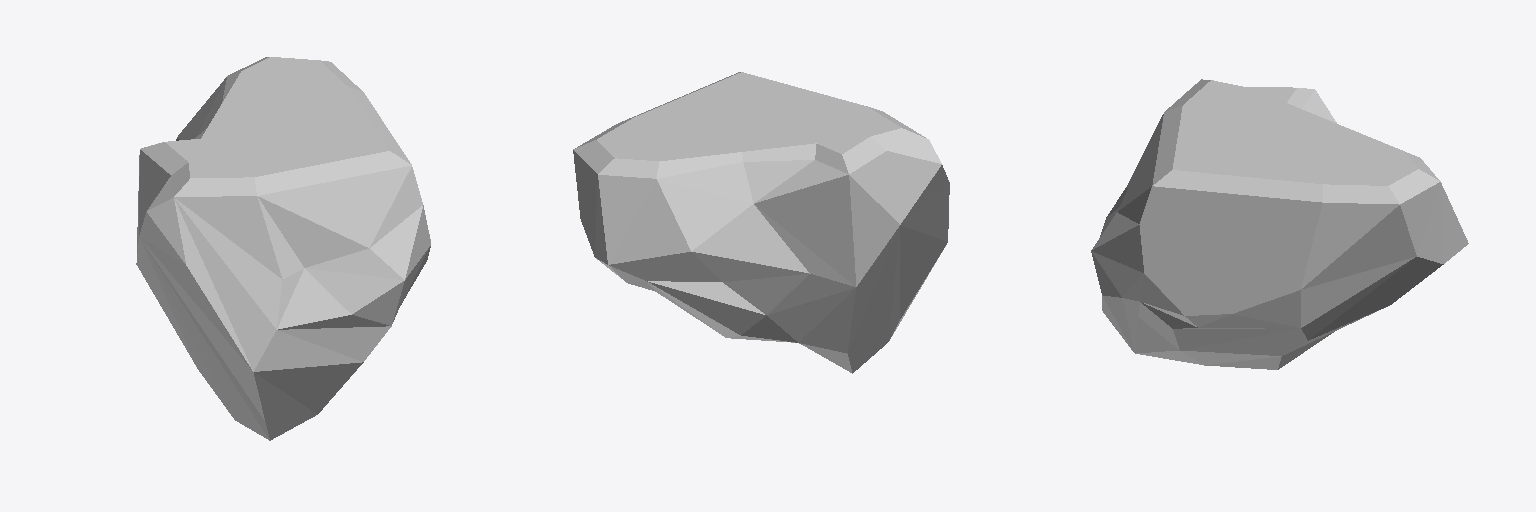
The model's file is Rock1Platform.obj.
The picture shows the model from 3 angles: view 1: azimuth 30°, elevation 25°; view 2: azimuth 150°, elevation 25°; view 3: azimuth 270°, elevation 25°; orthographic projection.
Parts seen in each view (by area): view 1: Rock_2.008_Icosphere.016; view 2: Rock_2.008_Icosphere.016; view 3: Rock_2.008_Icosphere.016.
Boxes of the visible parts, box(x1,y1,x2,y2) form: Rock_2.008_Icosphere.016: box(136, 57, 430, 440); Rock_2.008_Icosphere.016: box(573, 72, 949, 373); Rock_2.008_Icosphere.016: box(1091, 79, 1468, 369).
Bounding box in the file's own units: 8.88 × 7.67 × 10.25.